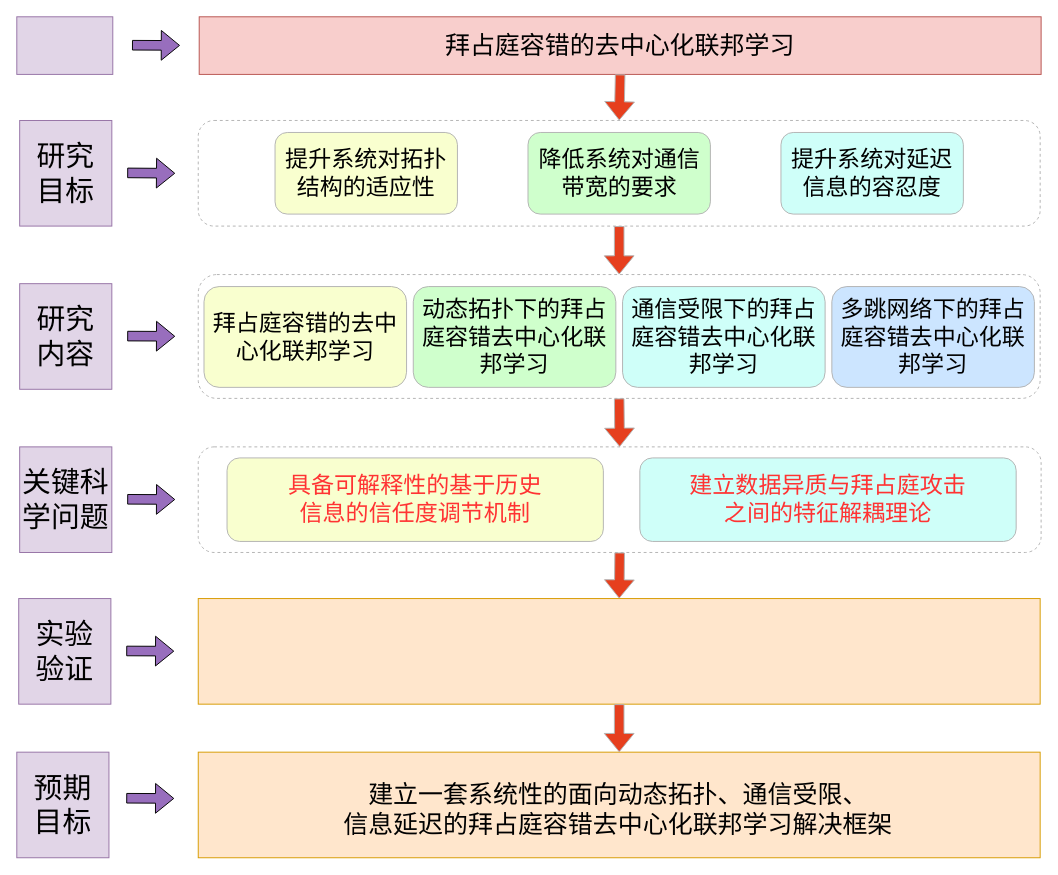
This 1058x875 diagram has some shape labels left out. Here are the shapes that lost their labels. From the top down, the centre of each, then its label:
At [64,45]: "总目标".
At [618,651]: "Fashion-MNIST/ FEMNIST/ CIFAR-10/IMDB 等 图像/非图像类数据集 进行算法验证".
